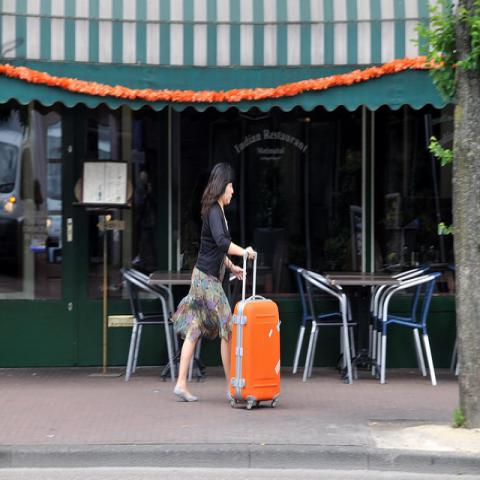car: (0, 130, 36, 263)
